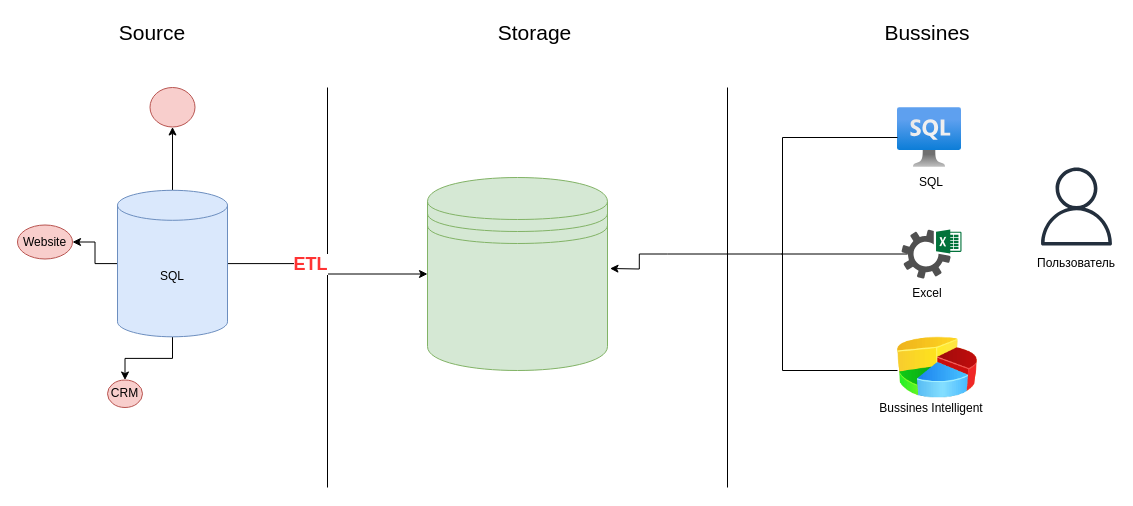
Image size: 1133x506. Some labels were removed from this diagram. The centre of each missing label's shape, as x and y in pixels:
"Staging layer Business layer" goes at (517,273).
"WebAPI" goes at (172,106).
